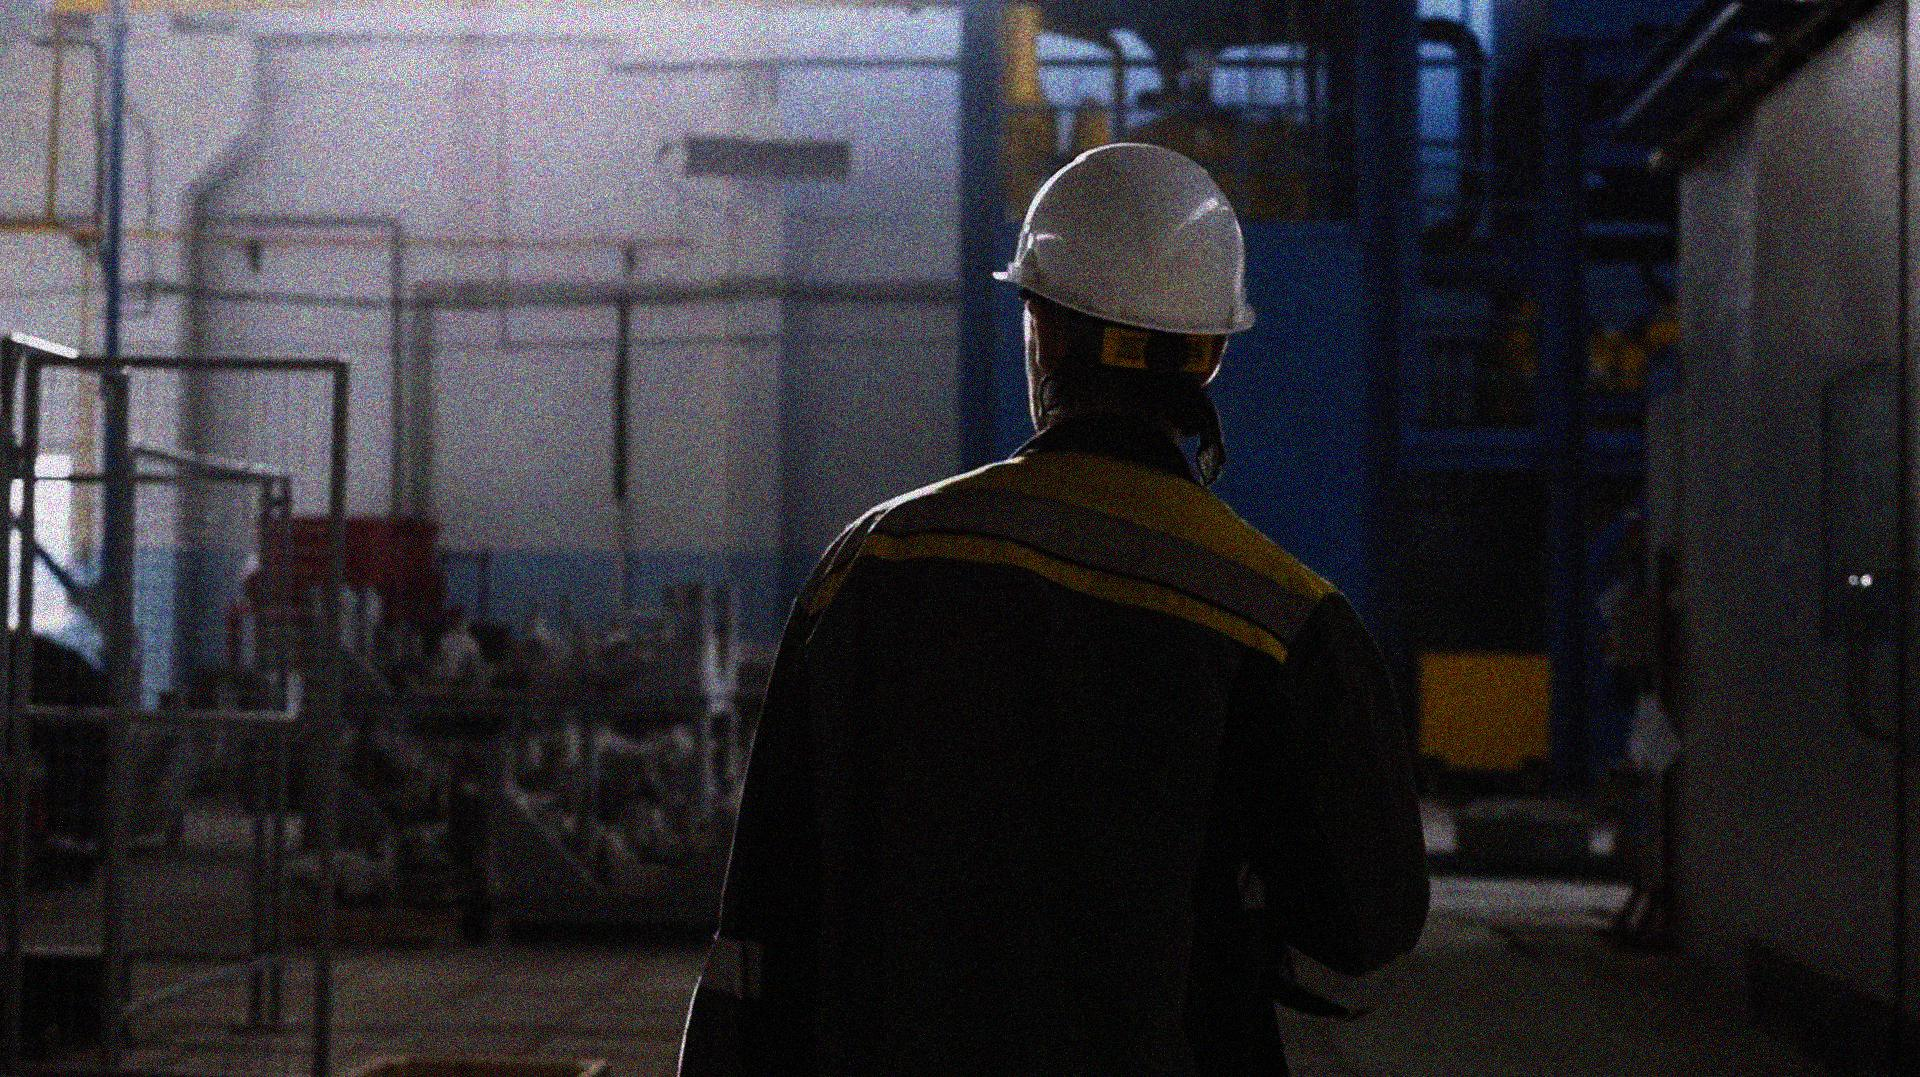helmet: (986, 137, 1263, 460)
